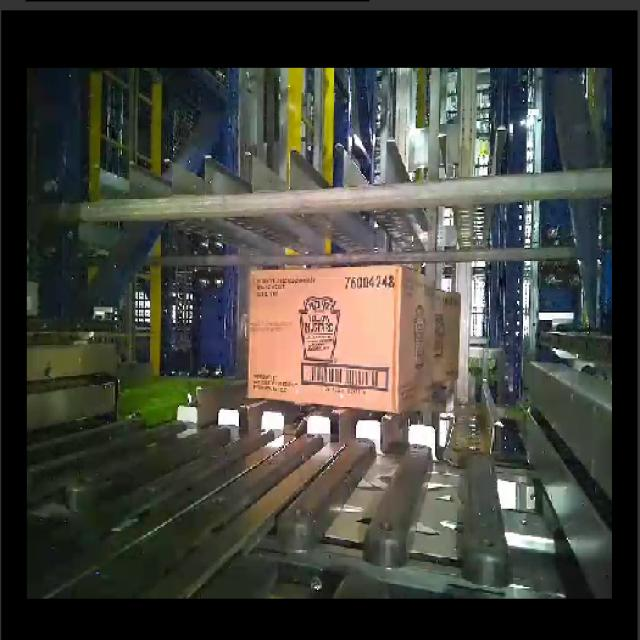box: (245, 258, 403, 415)
